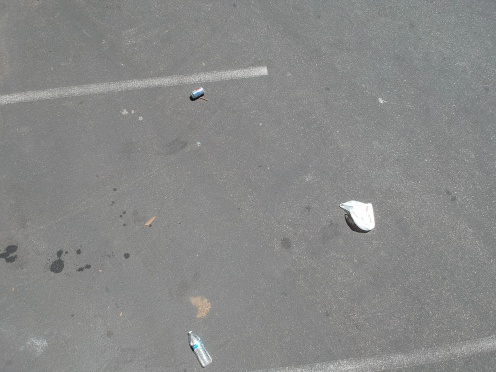bottle: (179, 327, 221, 368)
can: (182, 83, 207, 102)
plastic bag: (330, 193, 382, 233)
